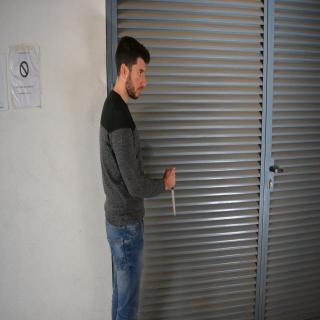knife: (167, 176, 179, 220)
